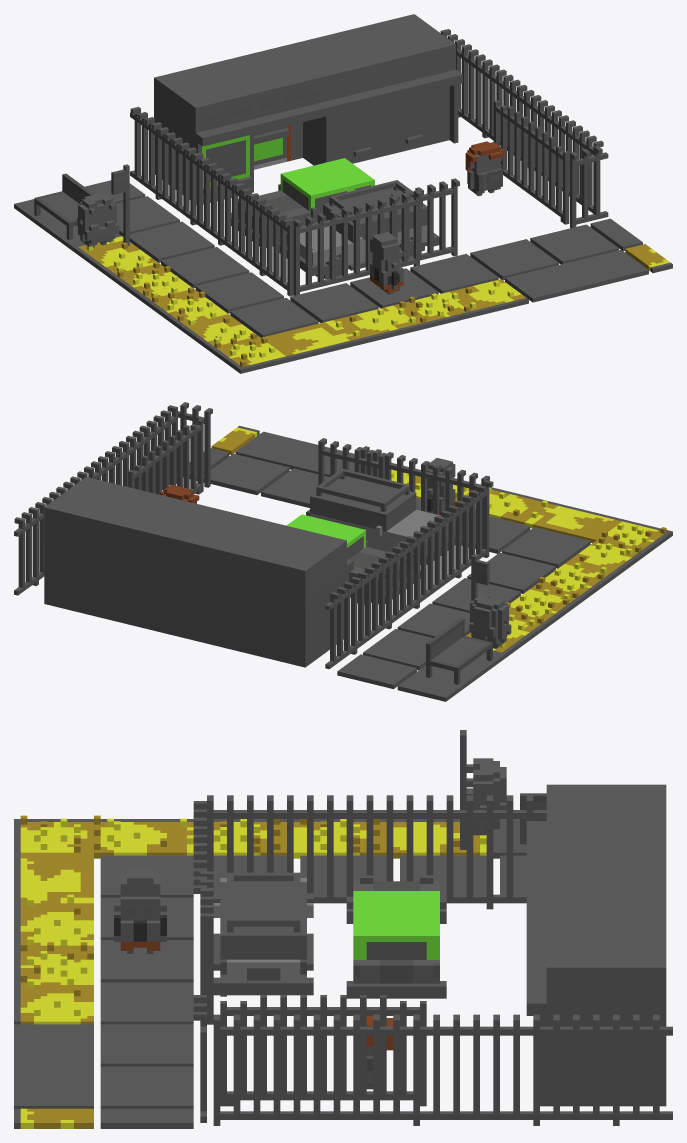
File: scene_mechanic.obj
3 views of the same model, one above another, from view 1: azimuth 30°, elevation 25°; view 2: azimuth 150°, elevation 25°; view 3: azimuth 270°, elevation 25° (orthographic). The views are drawn at different scales.
Size of the model in its own units: 108 by 23 by 99.
